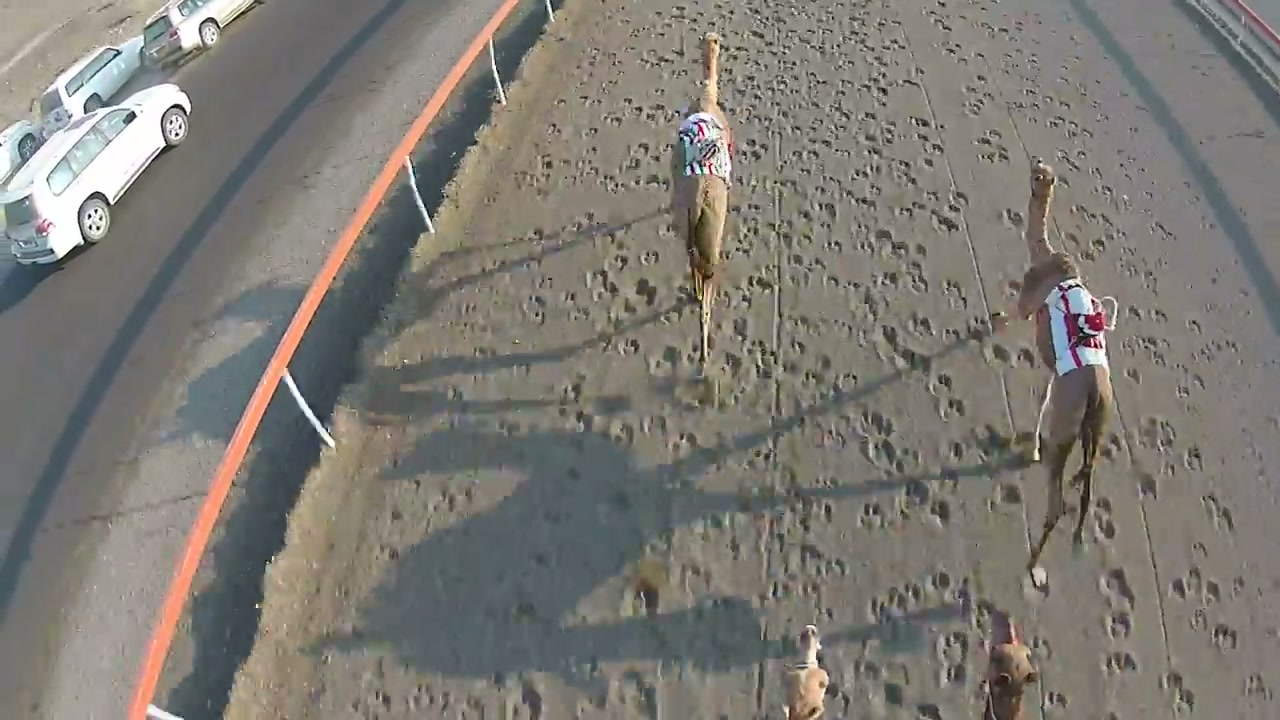animal_footprint: (381, 0, 1248, 717), (866, 572, 960, 654), (1168, 567, 1243, 653), (855, 411, 914, 472), (935, 630, 970, 687), (1169, 566, 1221, 603), (928, 372, 966, 421), (1099, 567, 1136, 610), (1160, 671, 1195, 715), (1202, 493, 1234, 534), (1091, 496, 1116, 542), (988, 481, 1023, 511), (1243, 672, 1273, 702), (1105, 610, 1132, 640), (1103, 651, 1138, 674), (1042, 689, 1069, 716), (1028, 634, 1054, 662)
